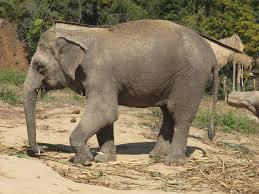elephant: (23, 19, 217, 164)
